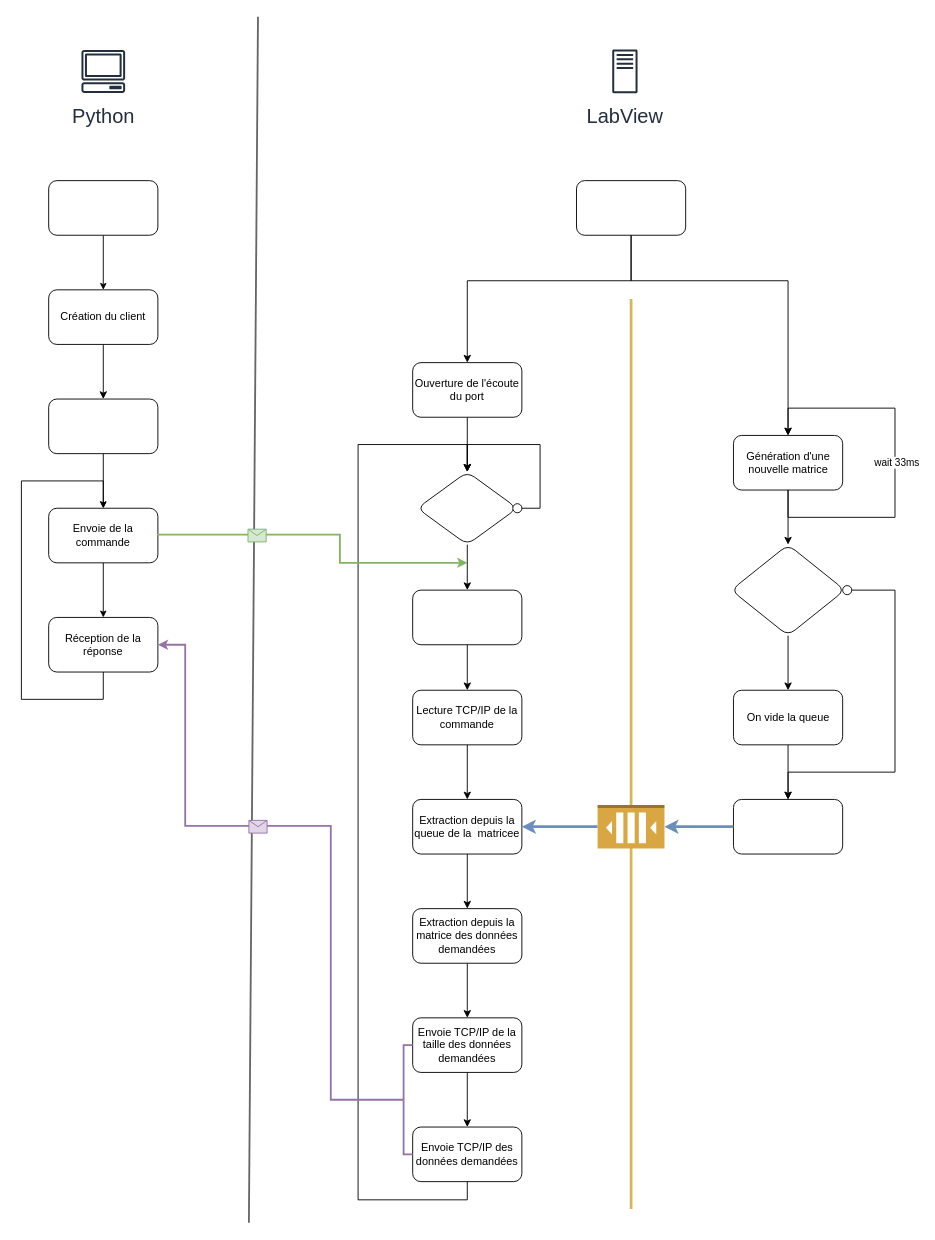
This 935x1240 diagram has some shape labels left out. The box of each missing label's shape, as (x1, y1, x2, y2) in pixels:
Choix de la commande à envoyer: (48, 180, 158, 235)
Connexion au port TCP: (48, 398, 158, 454)
Création de la queue: (576, 180, 686, 235)
La queue est pleine ?: (730, 544, 845, 636)
Lecture TCP/IP des 4 octets de taille de la commande: (412, 589, 522, 645)
On charge la nouvelle matrice dans la queue: (733, 799, 843, 854)
Tentative de connexion sur le port ?: (416, 471, 517, 545)
